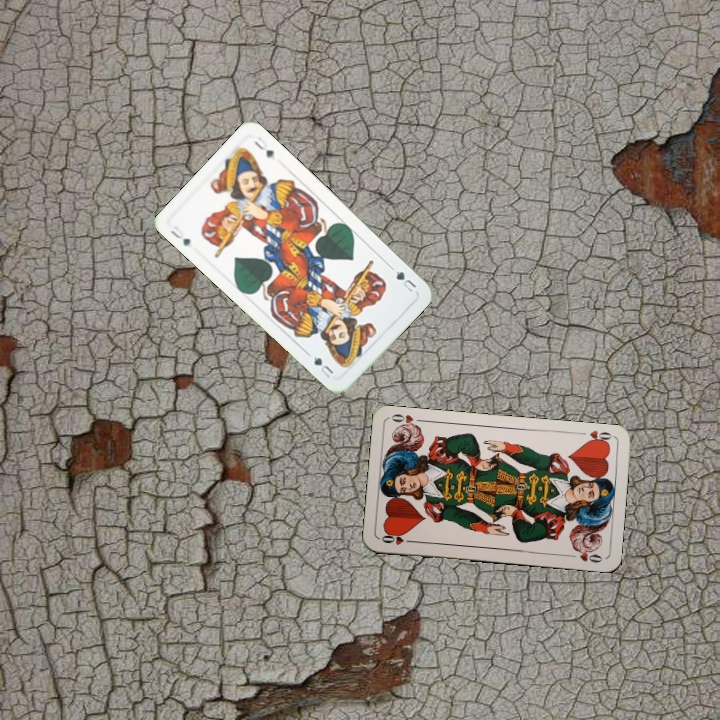GU: (392, 267, 419, 295), (166, 222, 193, 249)
HO: (377, 529, 417, 548), (582, 426, 615, 447)
